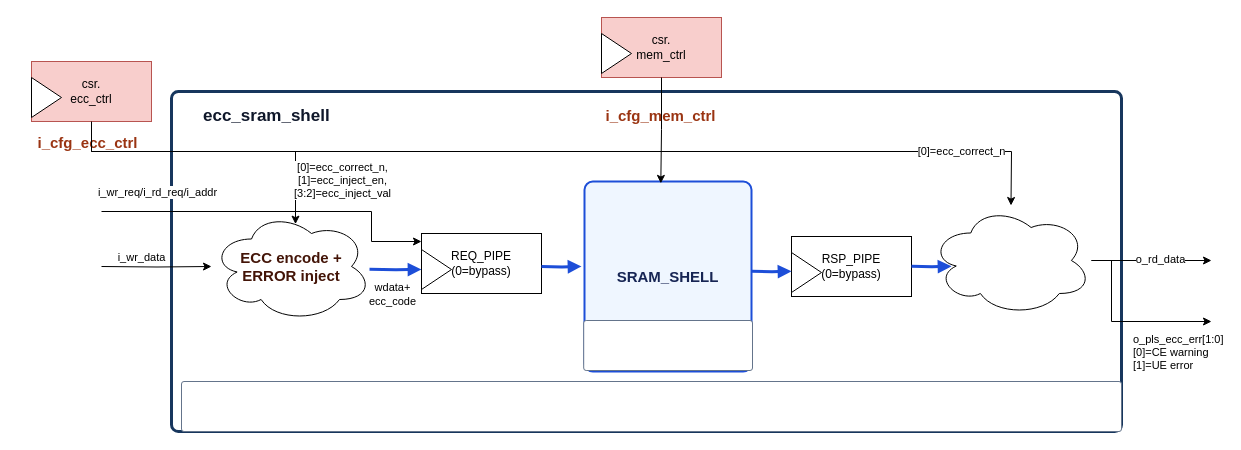
This 1241x450 diagram has some shape labels left out. Here are the shapes that lost their labels. From the top down, the centre of each, then its label:
the point at 1011,260: ECC decode
the point at 667,345: SRAM latency = 1 cycle
the point at 651,406: Read latency = 1 + REQ_PIPE + RSP_PIPE cycles
